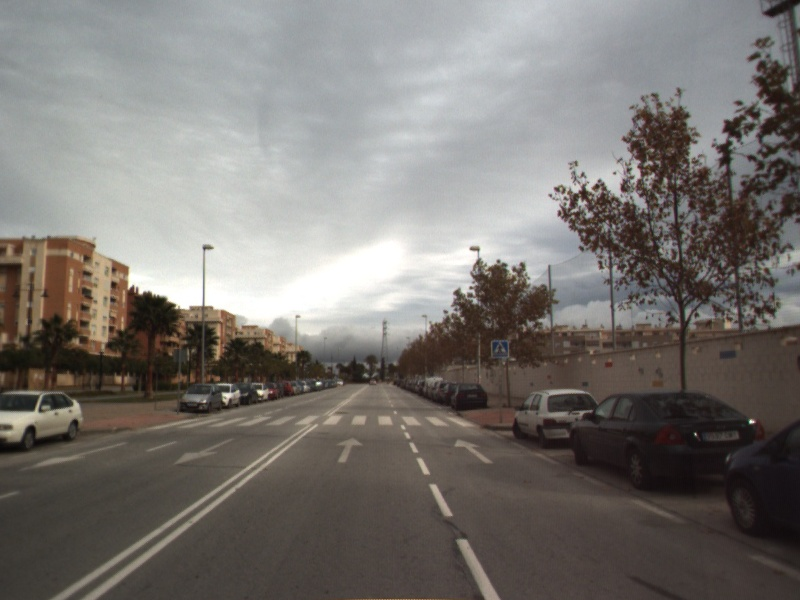STRAIGHT: (452, 436, 496, 465), (334, 435, 366, 464)
